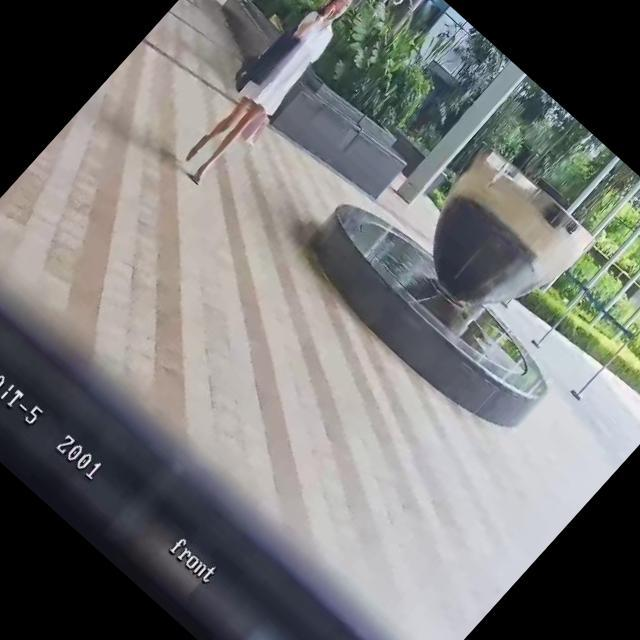person: (170, 0, 371, 191)
